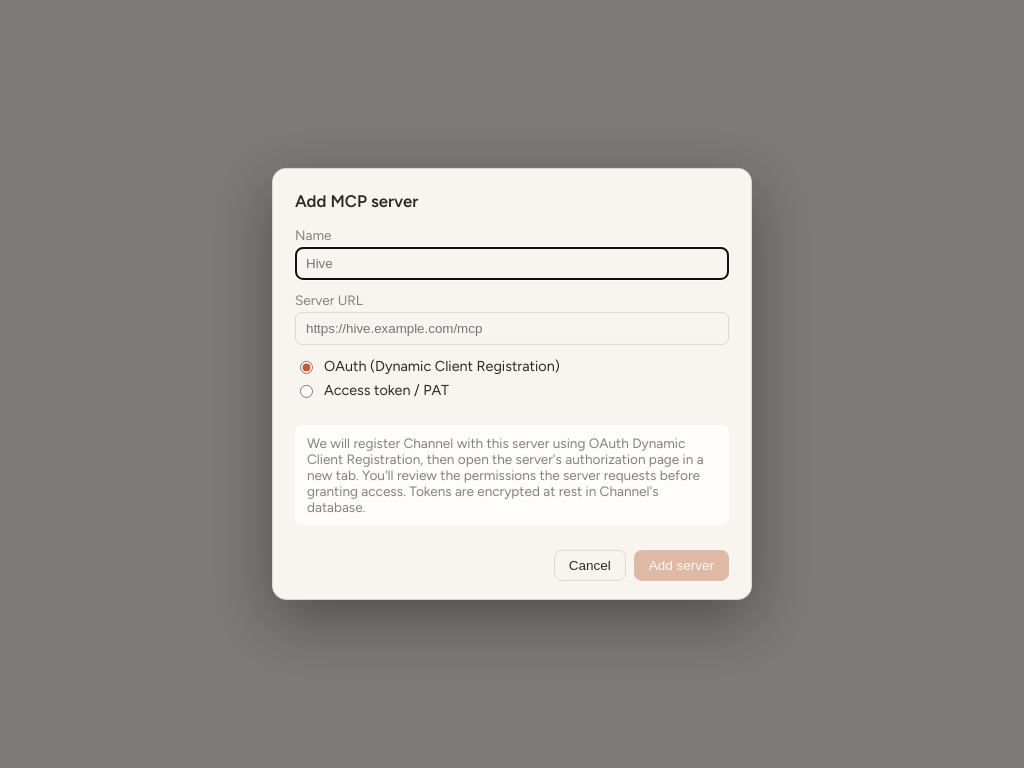
Scenario: AddMCPServerModal › selecting PAT reveals a masked token input and switches the consent copy
Click the radio button labelled "Access token / PAT" at (306,391), box [300,385,313,398]
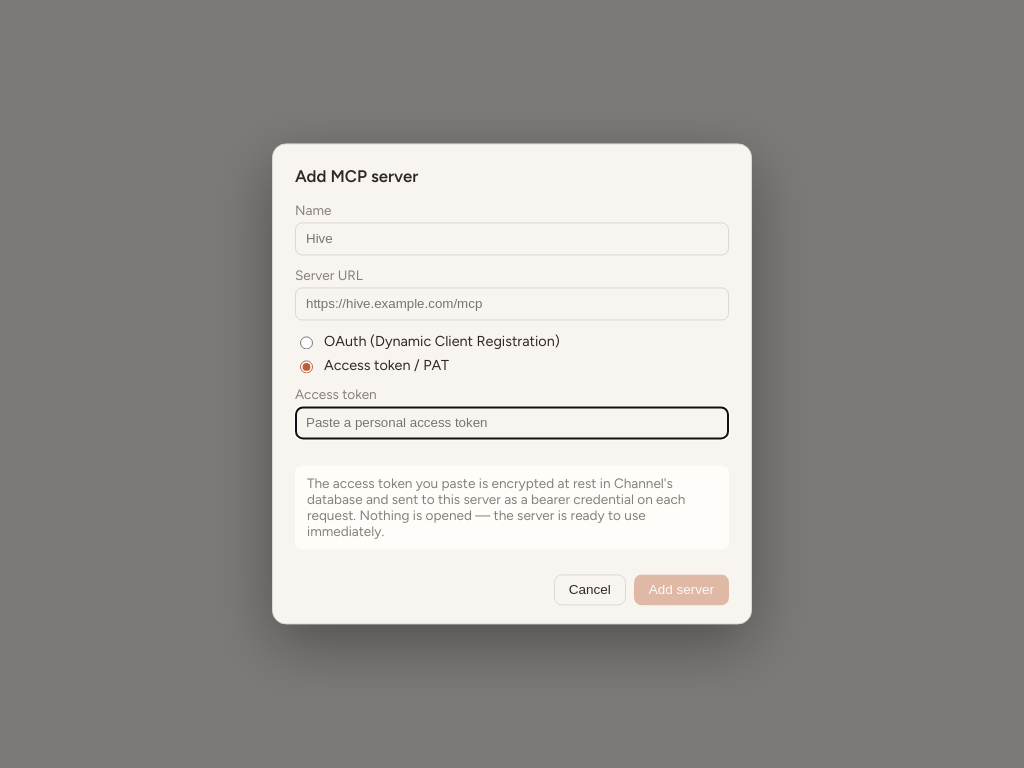
Result: the password field labelled "Access token" is shown at [295,406,729,439]
Result: the text "encrypted at rest in Channel's database and sent to this server as a bearer credential" is shown at [307,475,685,539]
